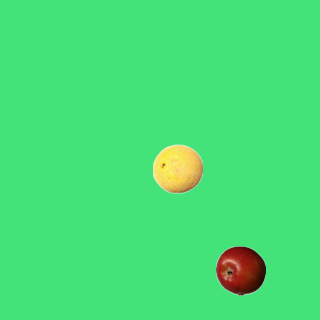Apple Braeburn: (215, 245, 265, 295)
Cantaloupe 1: (152, 143, 202, 193)
